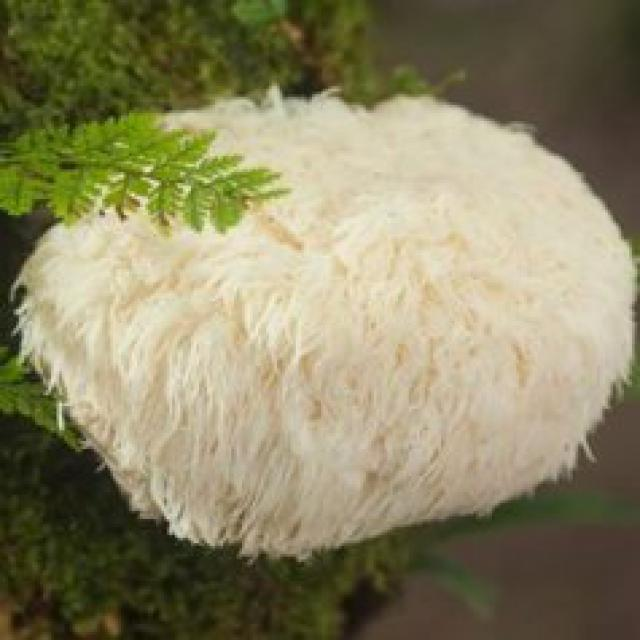Hericium erinaceus: (16, 98, 640, 554)
